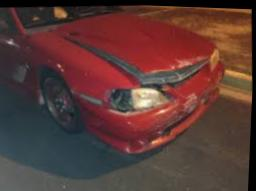Bonnet: (56, 13, 215, 83)
Bumper: (108, 82, 213, 154)
Light: (108, 84, 169, 111)
